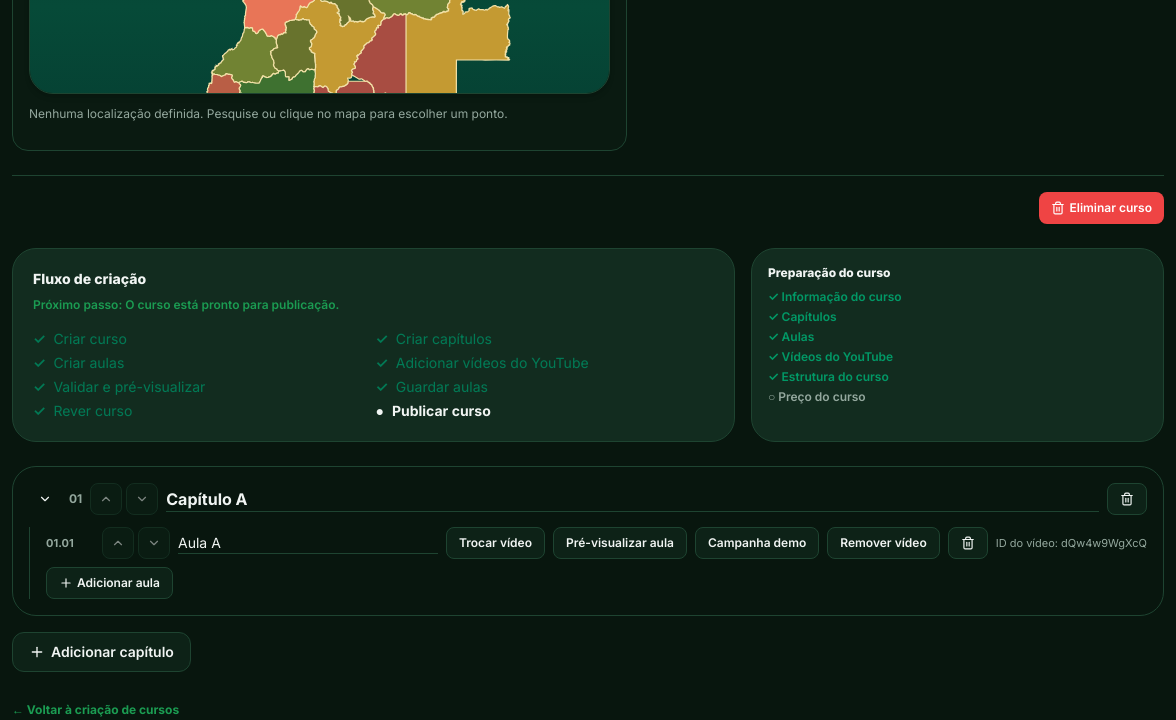
CourseEditor guided YouTube authoring › collapses a chapter and hides its lessons
This screenshot has width=1176, height=720.
(page scrolled)
Expected: the field showing "Aula A" next to "01.01" is shown, [178,532,438,554]
Expected: the button "Adicionar aula" is shown, [46,567,173,599]
Step 1. Click the button named "Recolher capítulo" → (45, 499), box [29,483,61,515]
(page scrolled)
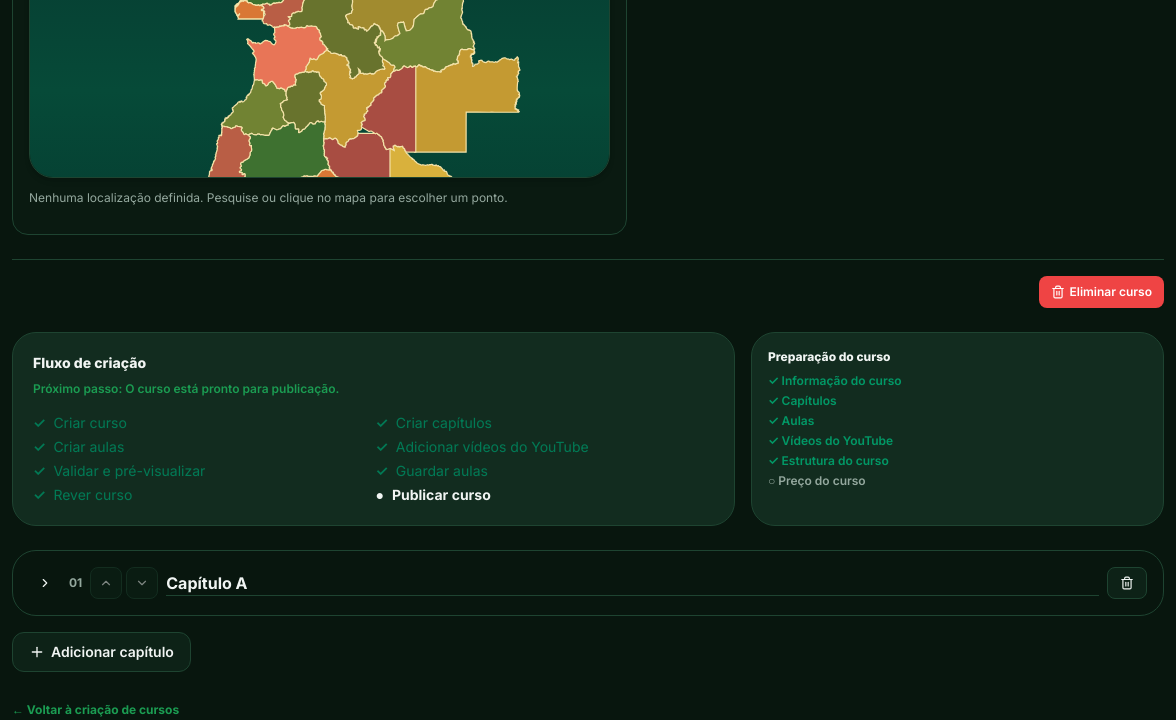
Expected: the field showing "Aula A" is gone
Expected: the button "Adicionar aula" is gone
Expected: the button named "Expandir capítulo" is shown, [29,567,61,599]
